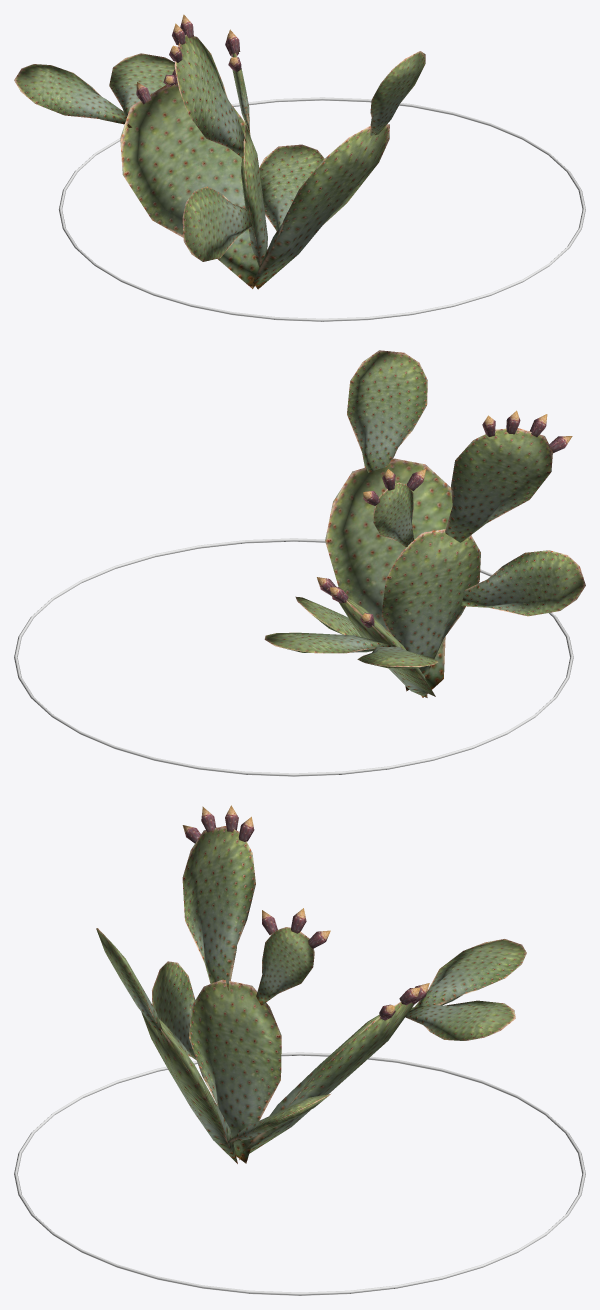
The model's file is static_cactus.fbx.
3 renders of one model, top to bottom at view 1: azimuth 30°, elevation 25°; view 2: azimuth 150°, elevation 25°; view 3: azimuth 270°, elevation 25°, orthographic. The views are drawn at different scales.
Parts seen in each view (by area): view 1: cactus, Torus; view 2: cactus, Torus; view 3: cactus, Torus.
Boxes of the visible parts, x1,y1,x2,y2 form: cactus: (14, 14, 425, 289); Torus: (58, 97, 585, 321); cactus: (264, 350, 585, 697); Torus: (14, 538, 573, 776); cactus: (96, 805, 526, 1163); Torus: (14, 1052, 585, 1295).
Bounding box in the file's own units: 3.02 × 1.83 × 3.02.
1 material, 1 textured.
